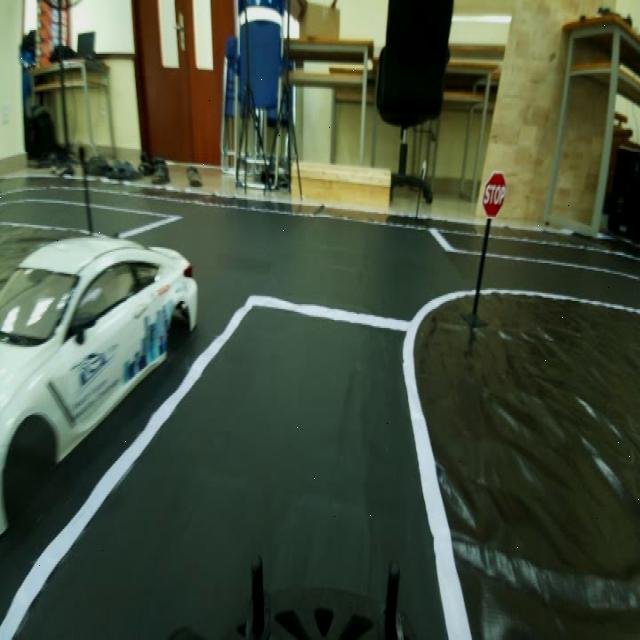car: (2, 167, 199, 533)
stop: (474, 164, 511, 227)
